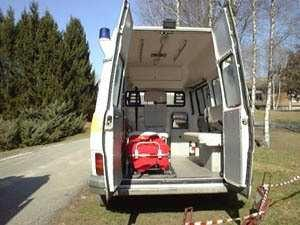car: (87, 0, 254, 209)
